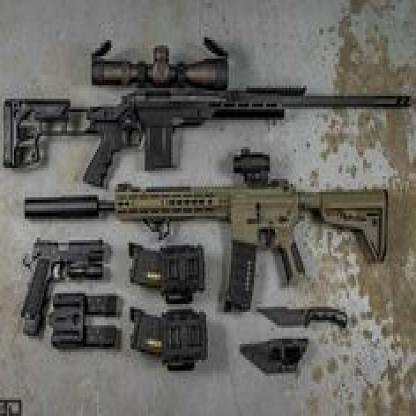Gun: (4, 38, 412, 192), (23, 144, 390, 315)
Knife: (256, 300, 350, 332)
Pistol: (21, 233, 107, 338)
